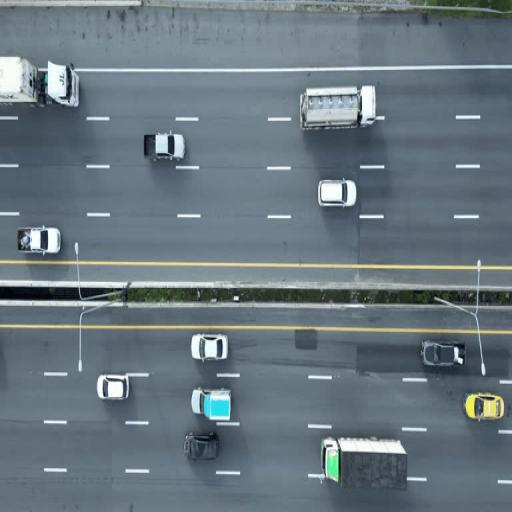Car: (88, 362, 138, 412), (313, 168, 362, 218), (184, 320, 233, 370), (461, 381, 510, 431), (419, 325, 468, 375), (180, 427, 222, 467)
Proclainer: (15, 222, 64, 266)
Truck: (317, 427, 412, 498), (0, 48, 82, 124), (296, 79, 378, 137), (141, 120, 190, 170)
Van: (189, 380, 236, 424)
